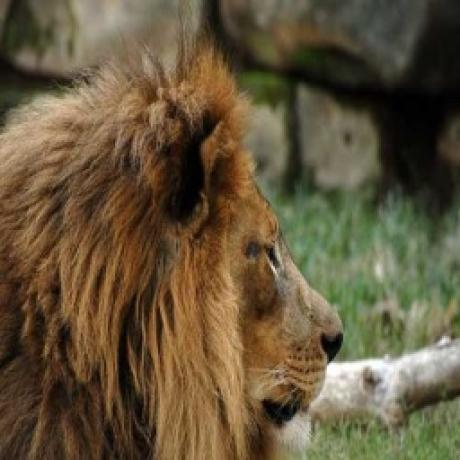Lion: (0, 30, 347, 460)
